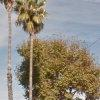Palm tree: (3, 2, 44, 98)
